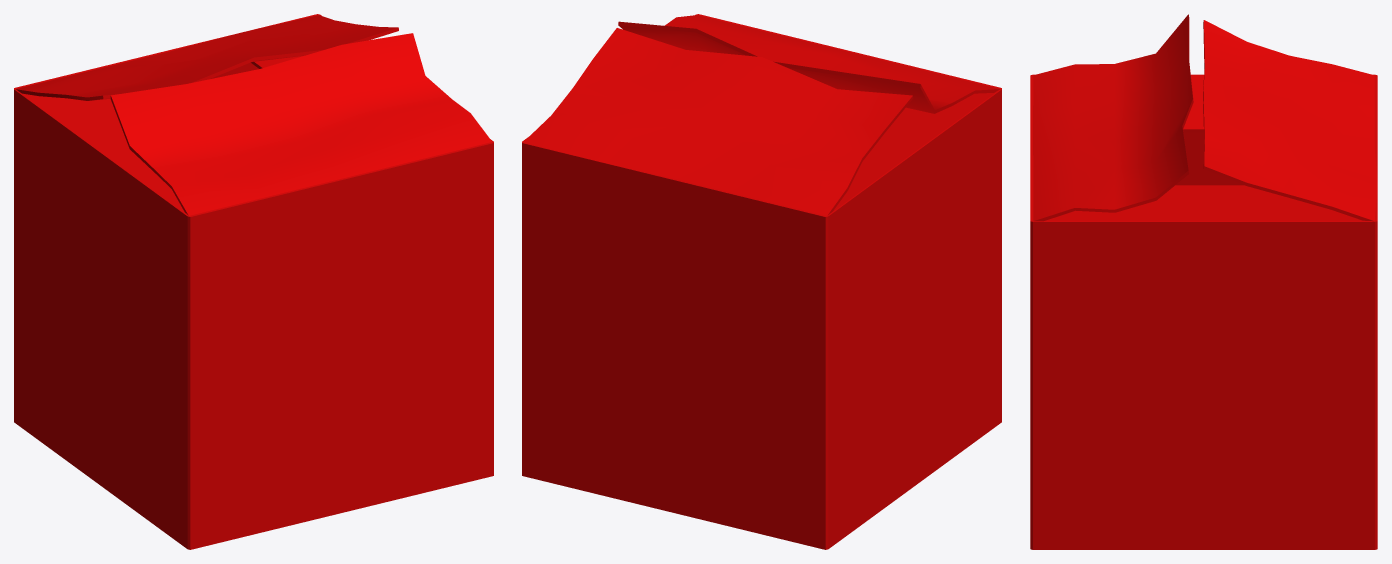
The model's file is cardboardBox4.fbx.
3 renders of one model, left to right at view 1: azimuth 30°, elevation 25°; view 2: azimuth 150°, elevation 25°; view 3: azimuth 270°, elevation 25°, orthographic.
Visible parts, largest first — view 1: Cardboard_Box_4; view 2: Cardboard_Box_4; view 3: Cardboard_Box_4.
Boxes of the visible parts, left/top/right/bottom form: Cardboard_Box_4: left=14, top=14, right=493, bottom=549; Cardboard_Box_4: left=522, top=14, right=1001, bottom=549; Cardboard_Box_4: left=1030, top=14, right=1377, bottom=549.
Bounding box in the file's own units: 35.12 × 43.32 × 35.
